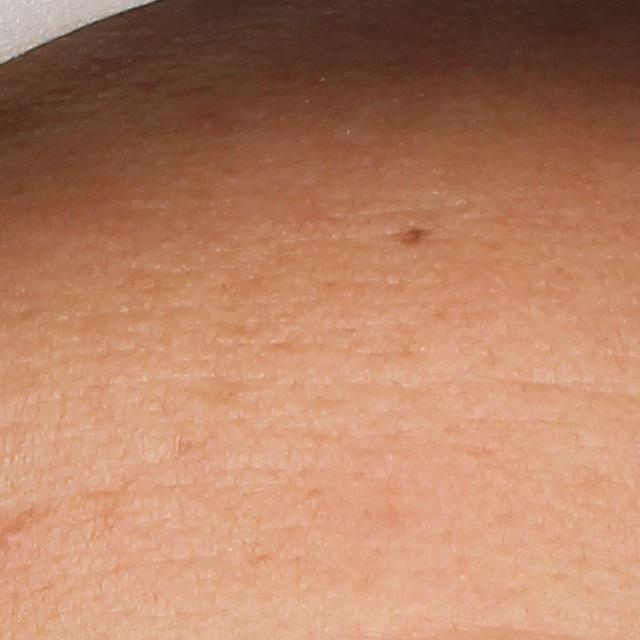nevus: (392, 222, 435, 253)
